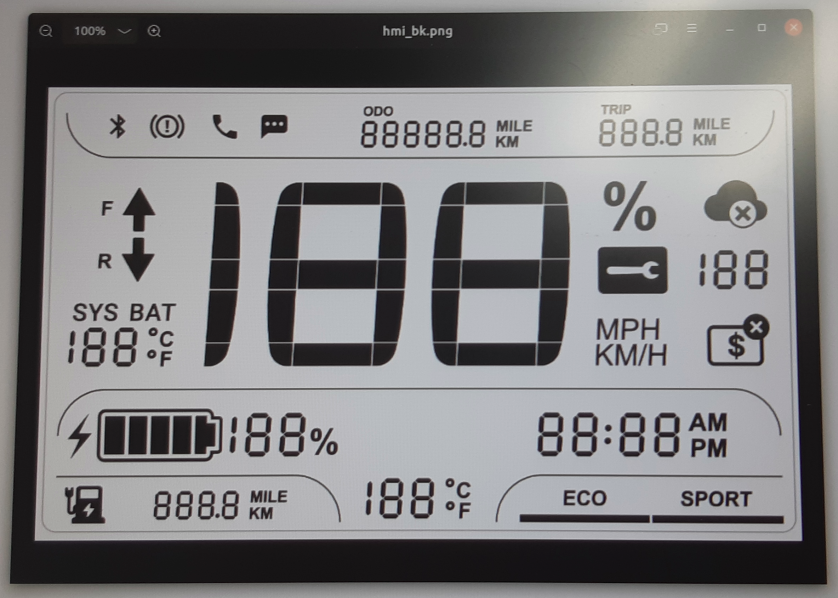bluetooth_on: (105, 110, 130, 140)
braking_on: (148, 111, 186, 142)
calling_on: (209, 110, 240, 143)
connection_lost: (698, 178, 771, 230)
error_code: (593, 243, 670, 297)
low_battery: (63, 482, 109, 527)
sms_on: (256, 112, 291, 141)
vin_id: (704, 312, 772, 369)
